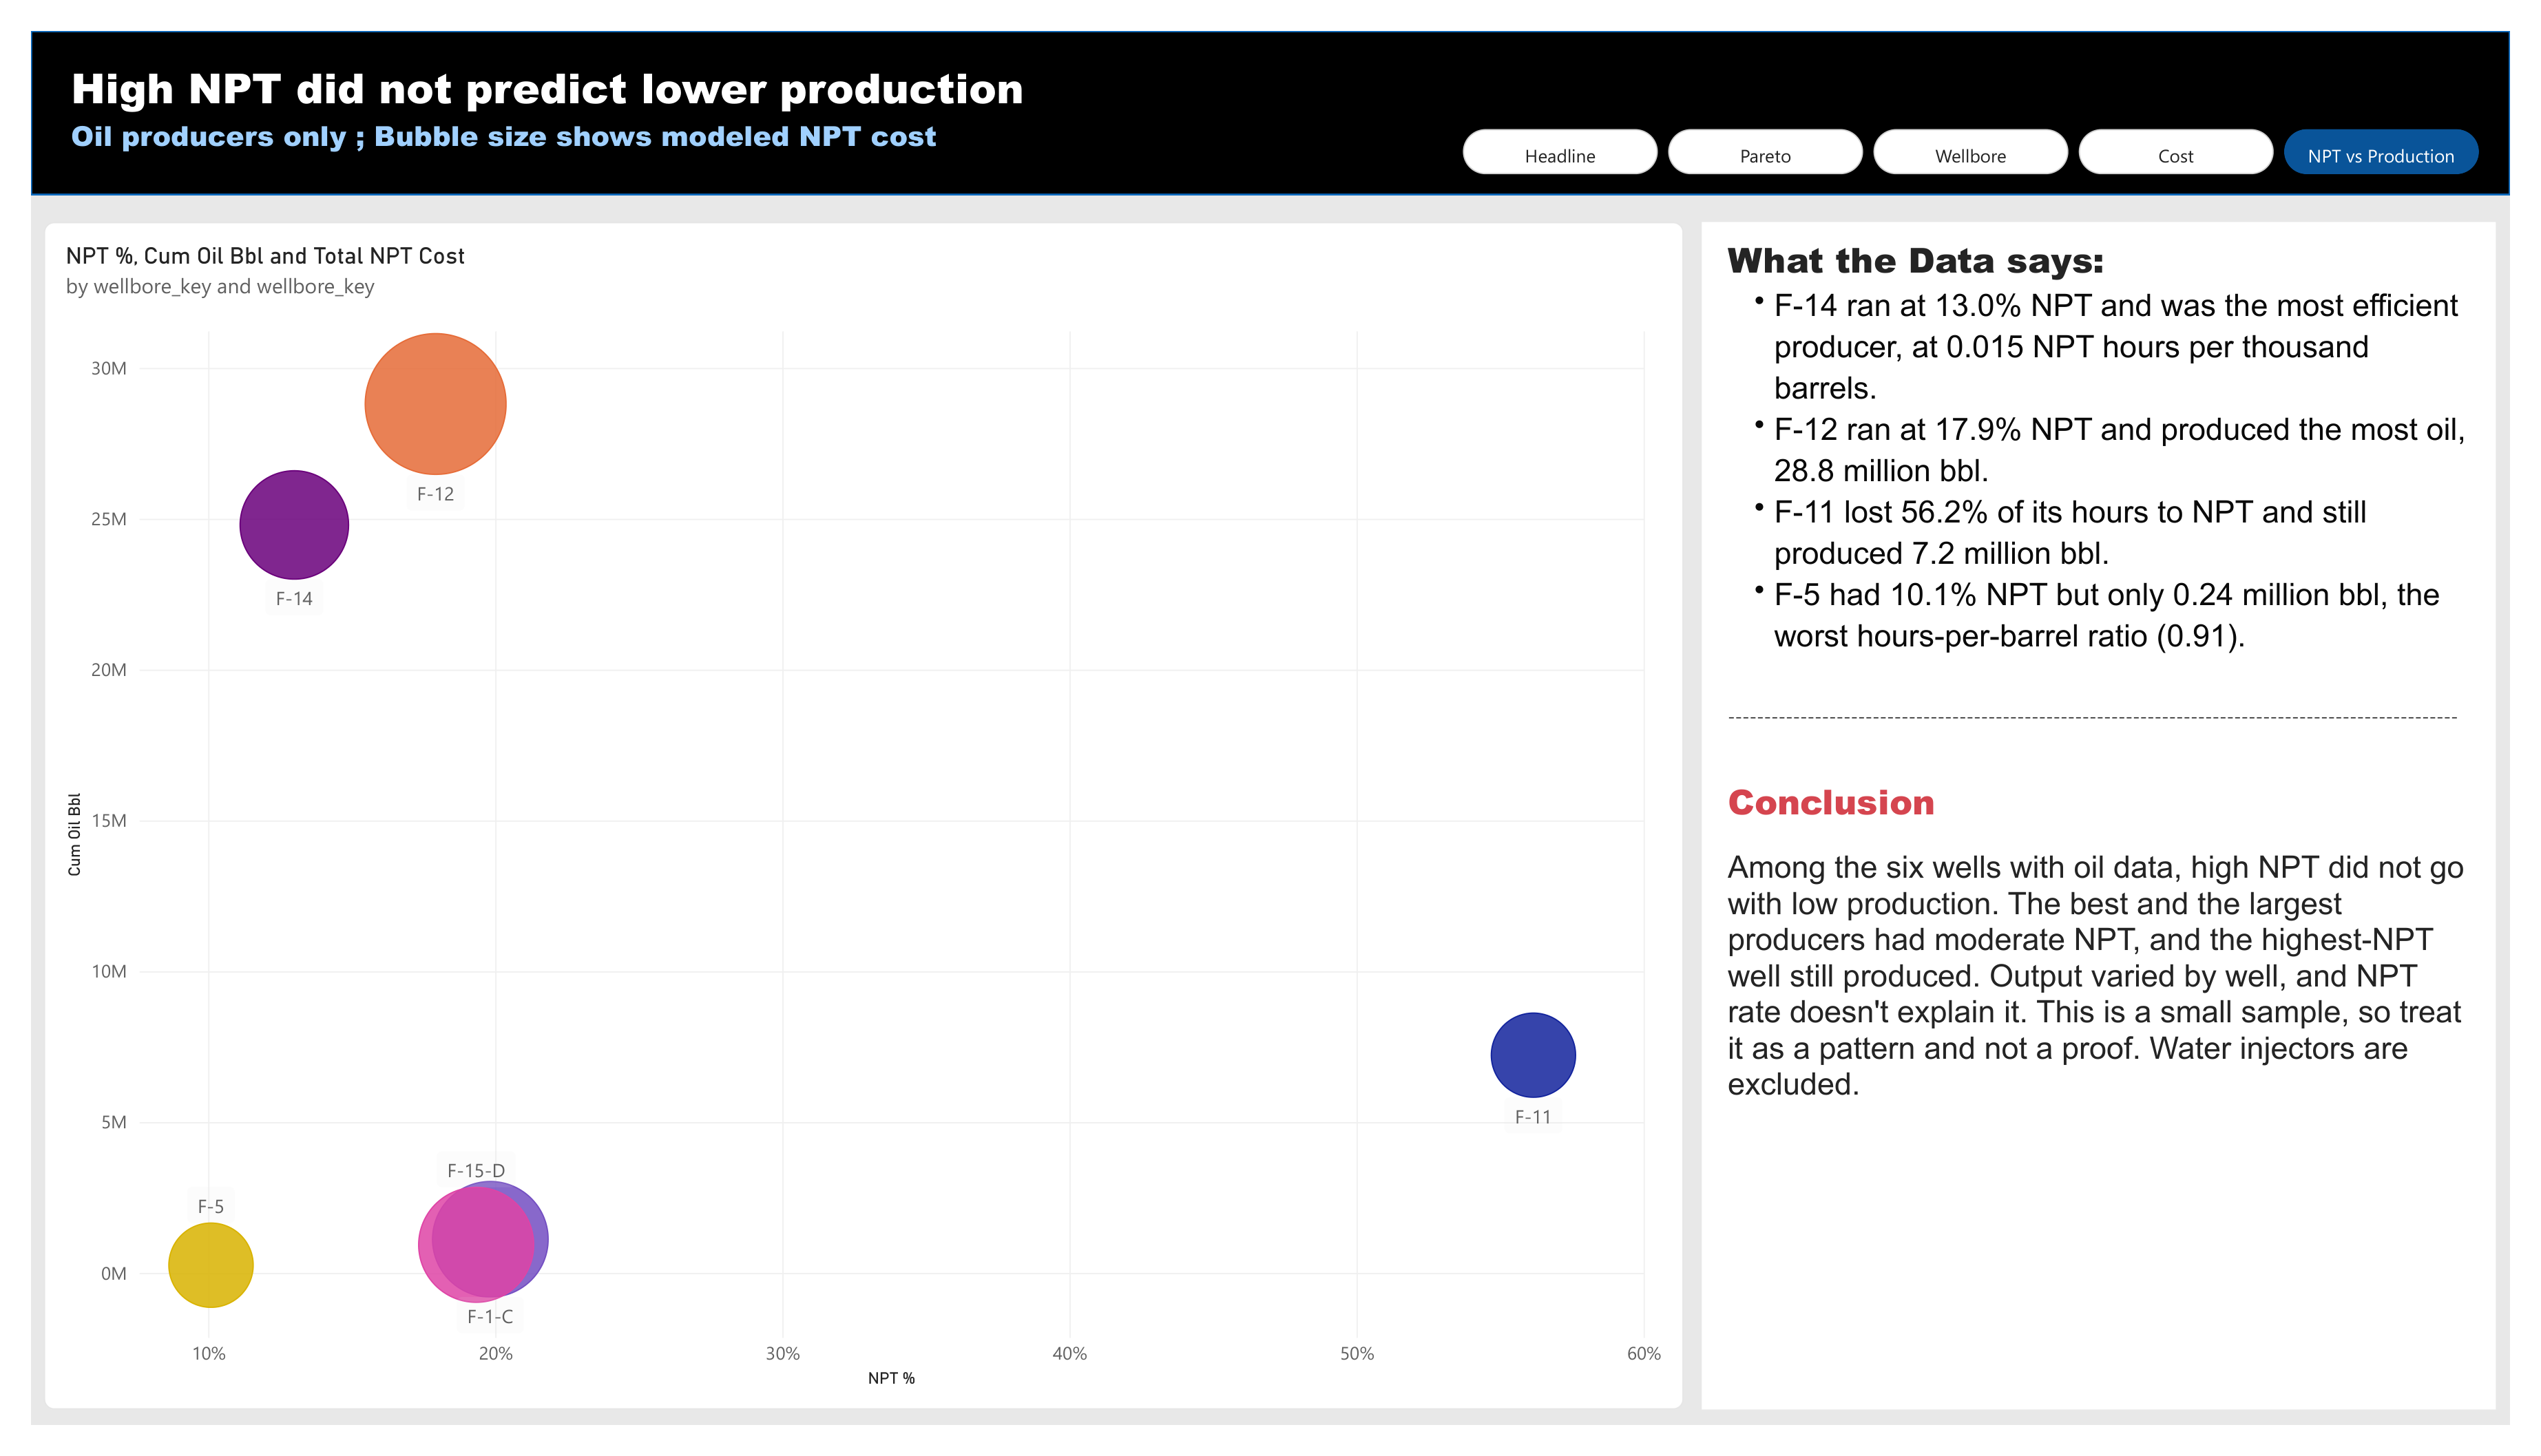

This screenshot's page, from the dashboard's own definition file:
{"tool":"powerbi","page":{"name":"NPT vs Production","canvas":[1920,1080],"ordinal":4},"visuals":[{"type":"scatterChart","fields":{"Category":["public dim_wellbore.wellbore_key"],"Series":["public dim_wellbore.wellbore_key"],"Size":["_Measures.NPT Cost"],"X":["_Measures.NPT %"],"Y":["_Measures.Cum Oil Bbl"]},"box":[10,147.5,1270,920],"z":0},{"type":"shape","box":[0,0,1920,126.7],"z":1000},{"type":"pageNavigator","box":[1109,76,791,35],"z":2000},{"type":"textbox","box":[30.9,20.6,850.1,84.4],"z":3000},{"type":"textbox","box":[1293.5,147.5,615,920],"z":4000}]}

Visuals, with their boxes in screenshot pixels (x1, y1, x2, y2), scaled from the page's 1920x1080 canvas onto the 2541x1456 screenshot:
scatterChart - public dim_wellbore.wellbore_key x public dim_wellbore.wellbore_key: x1=13, y1=199, x2=1694, y2=1439
shape: x1=0, y1=0, x2=2540, y2=171
pageNavigator: x1=1467, y1=103, x2=2515, y2=149
textbox: x1=41, y1=28, x2=1166, y2=142
textbox: x1=1712, y1=199, x2=2526, y2=1439
